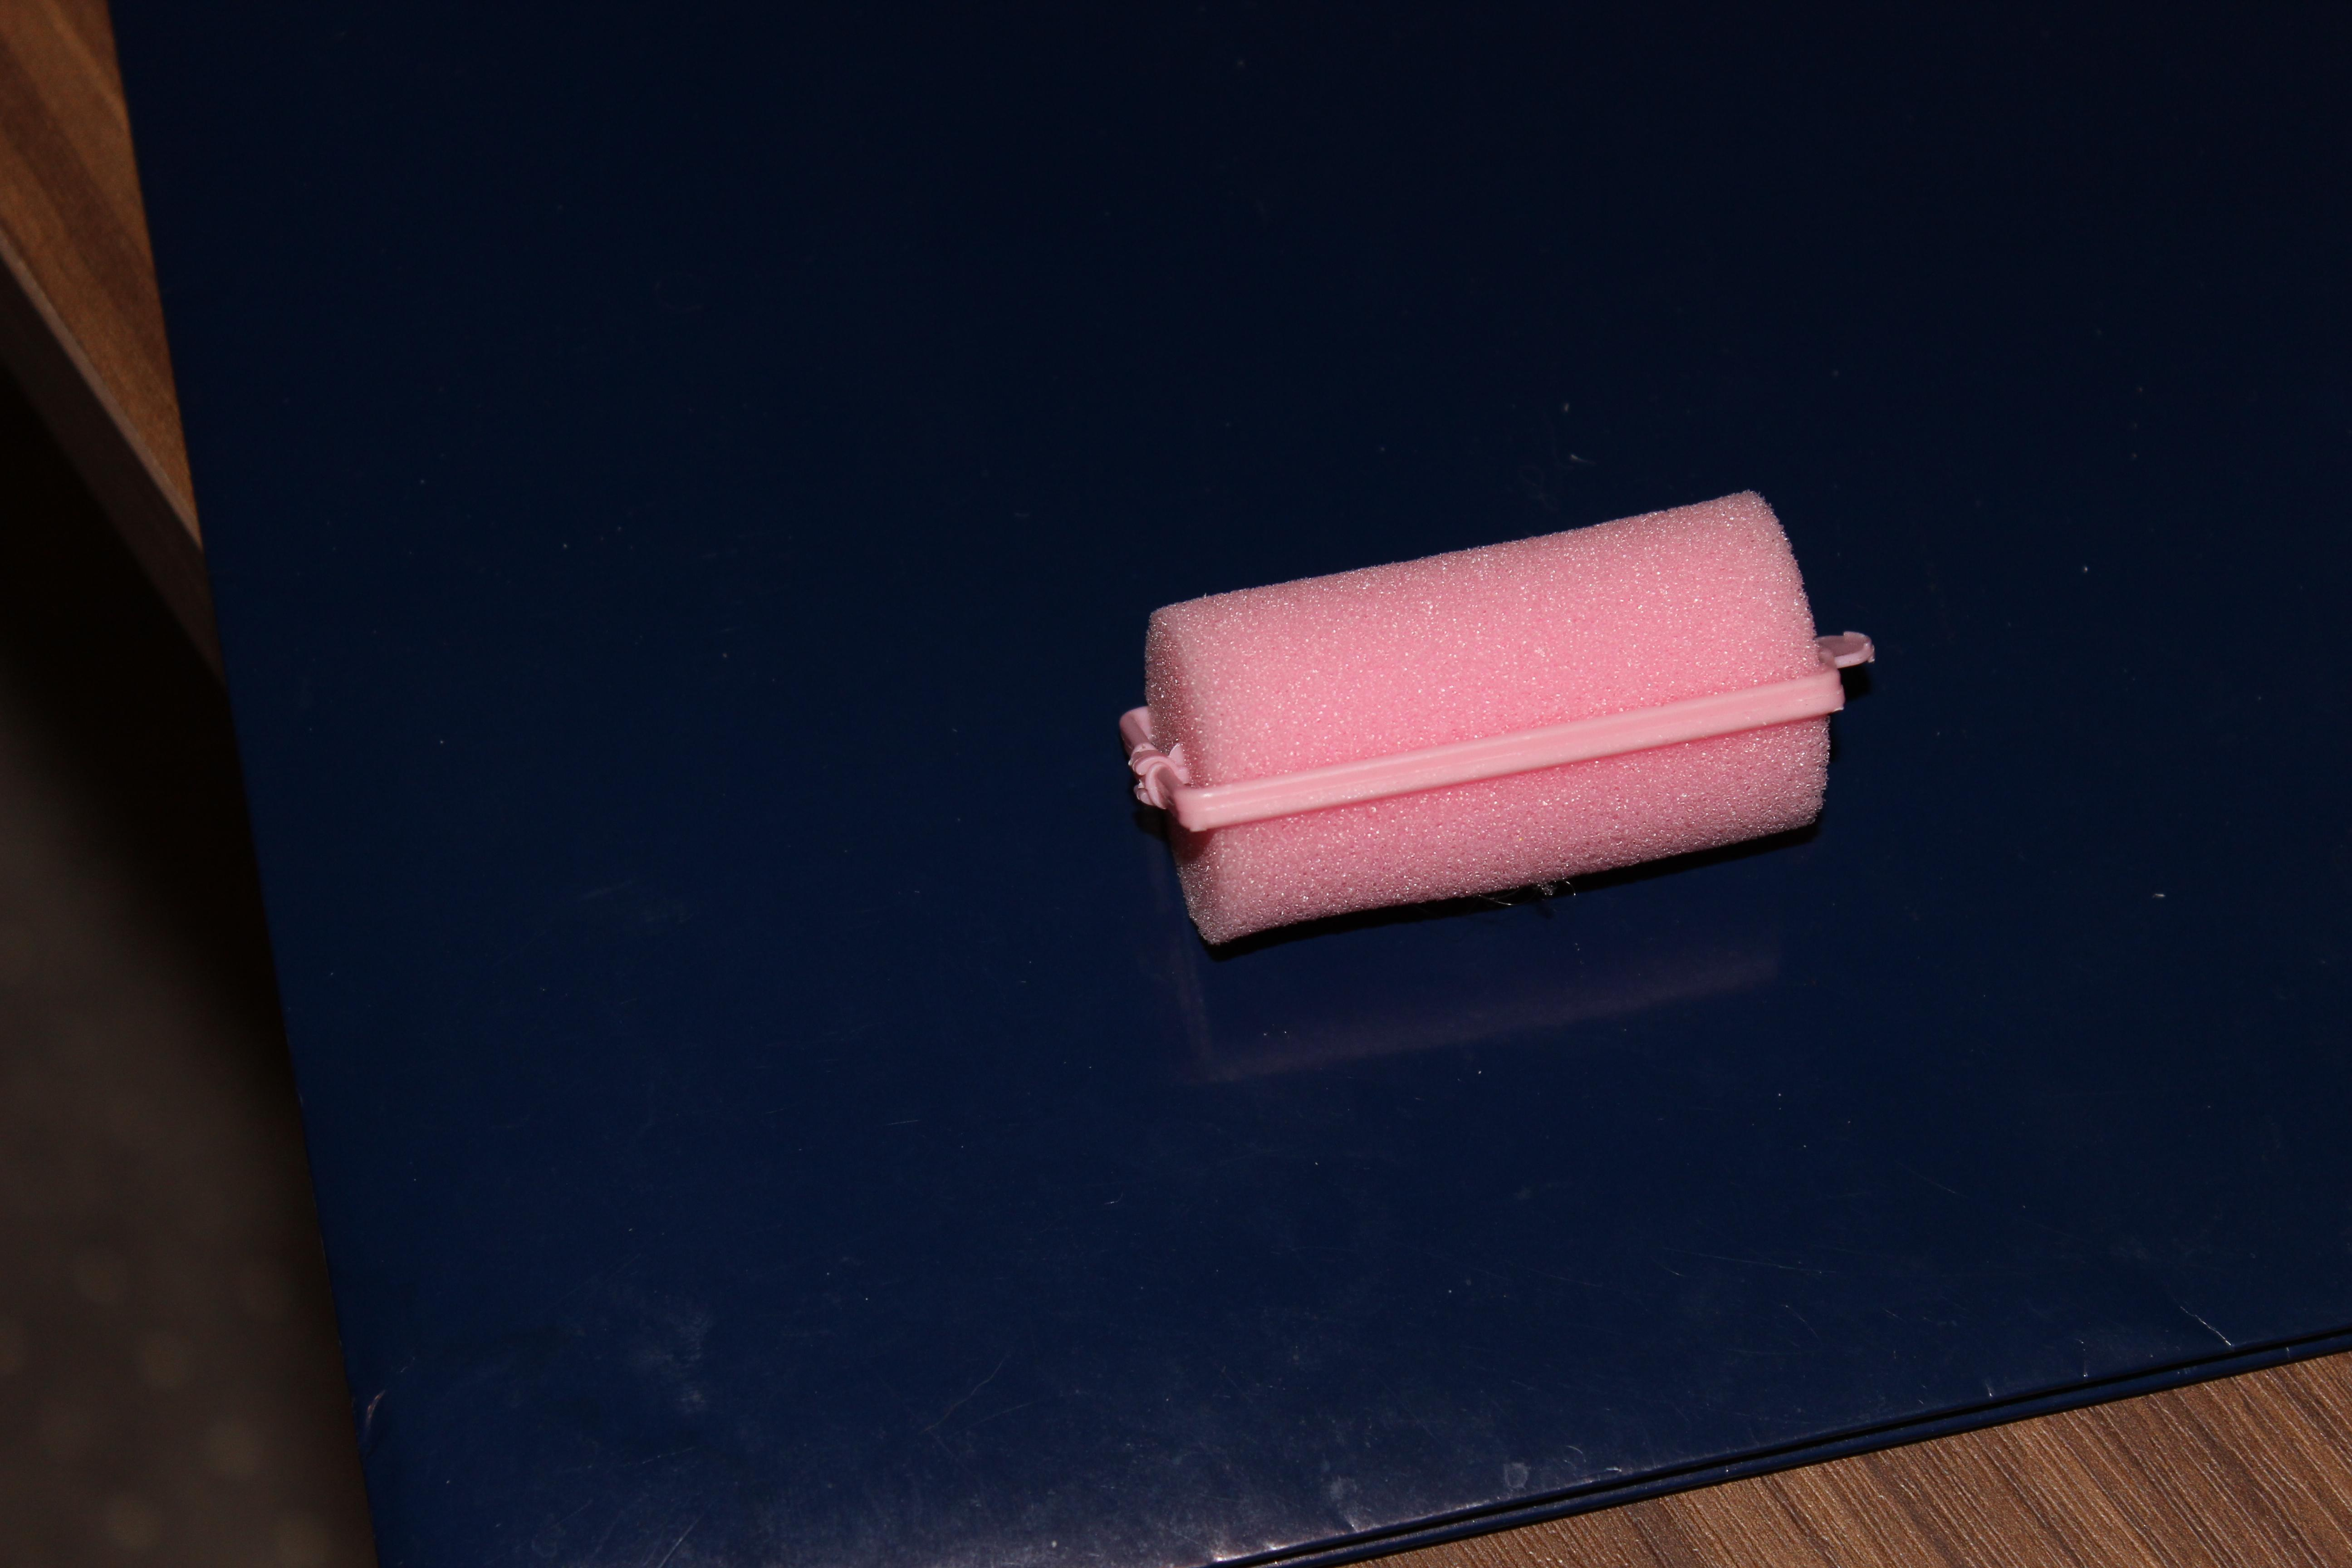hairRoller: (1094, 481, 1906, 982)
